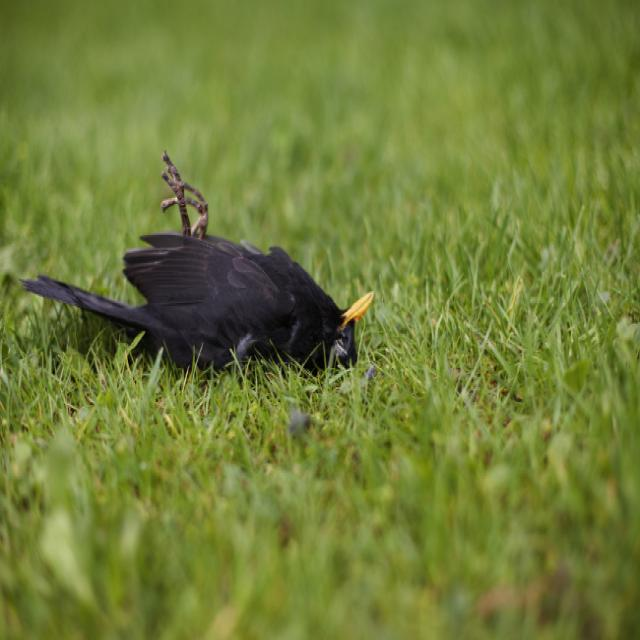Bangkai Burung: (22, 145, 401, 401)
